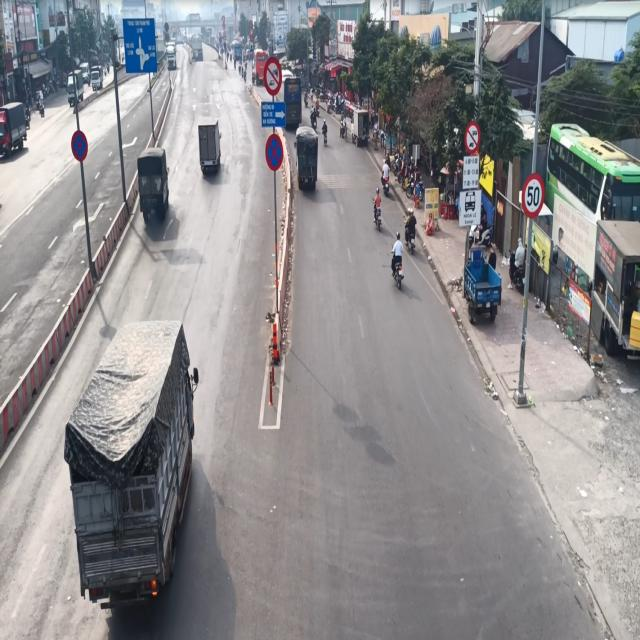motor: (391, 222, 406, 293), (367, 181, 384, 236)
truck: (66, 322, 202, 629), (138, 144, 172, 236), (293, 123, 324, 205), (195, 117, 222, 188)
